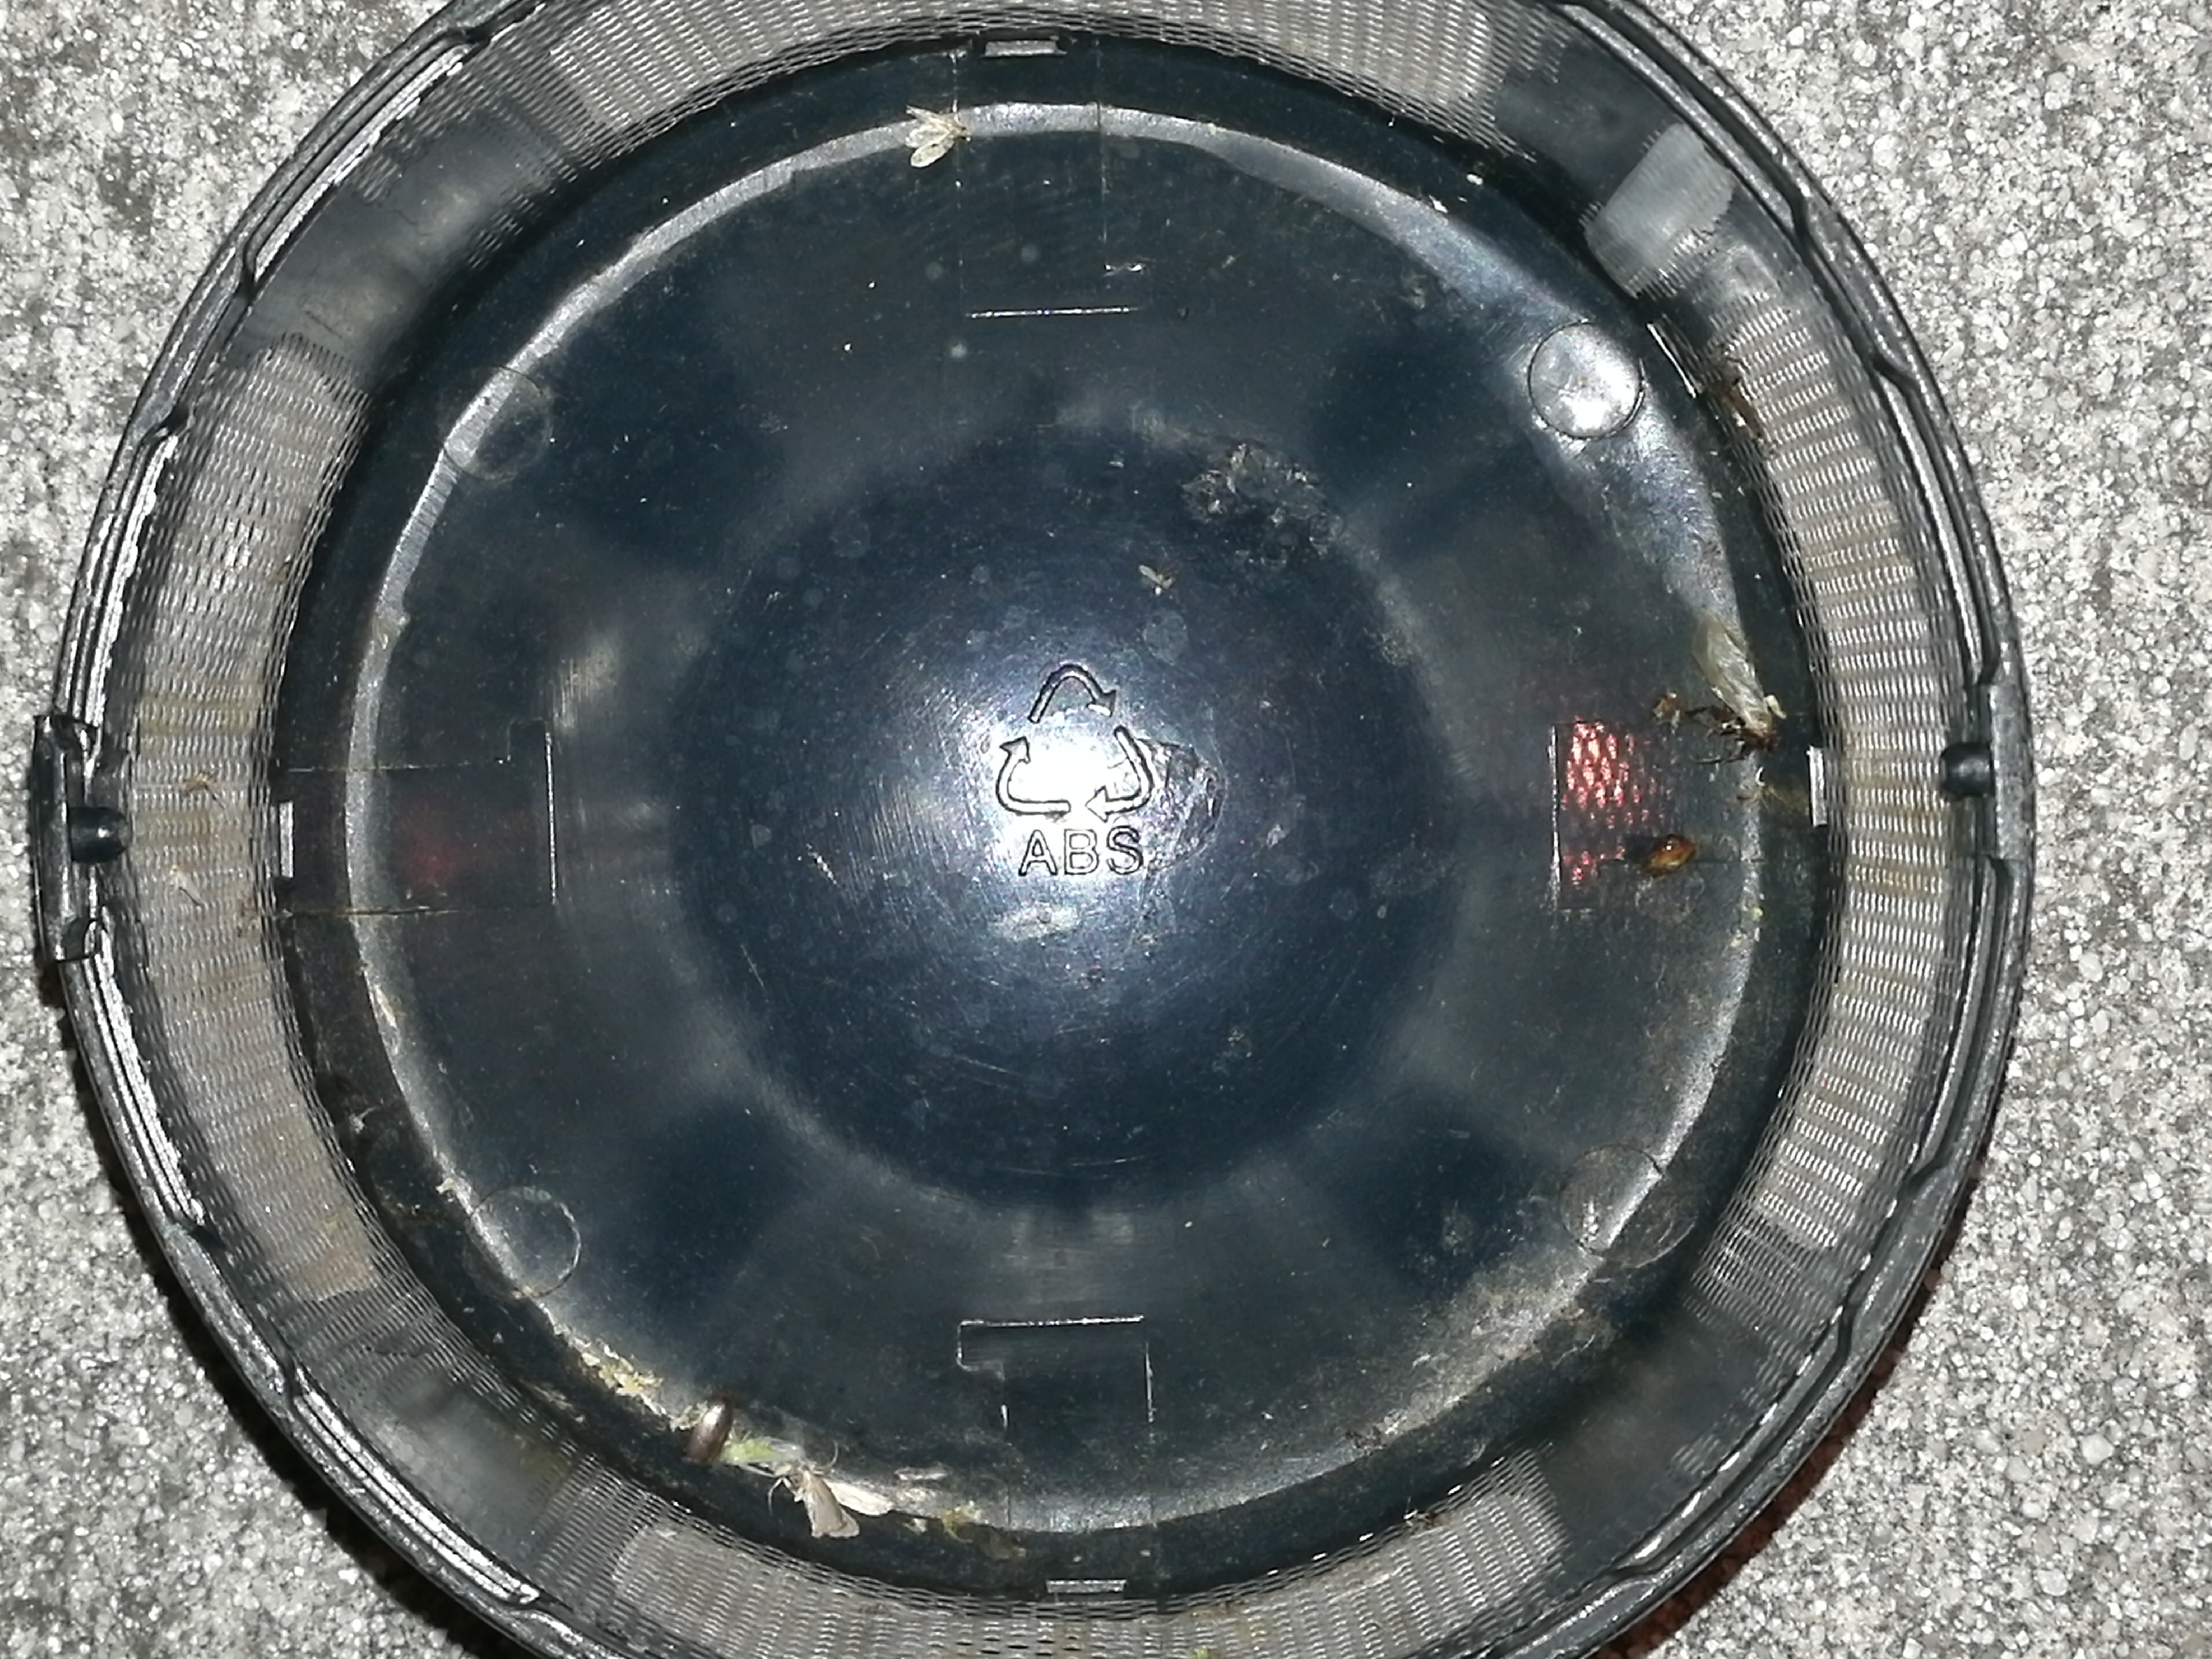beetle: (1717, 690, 1778, 749), (1653, 836, 1693, 868)
moth: (782, 1474, 894, 1537), (902, 106, 961, 169)
